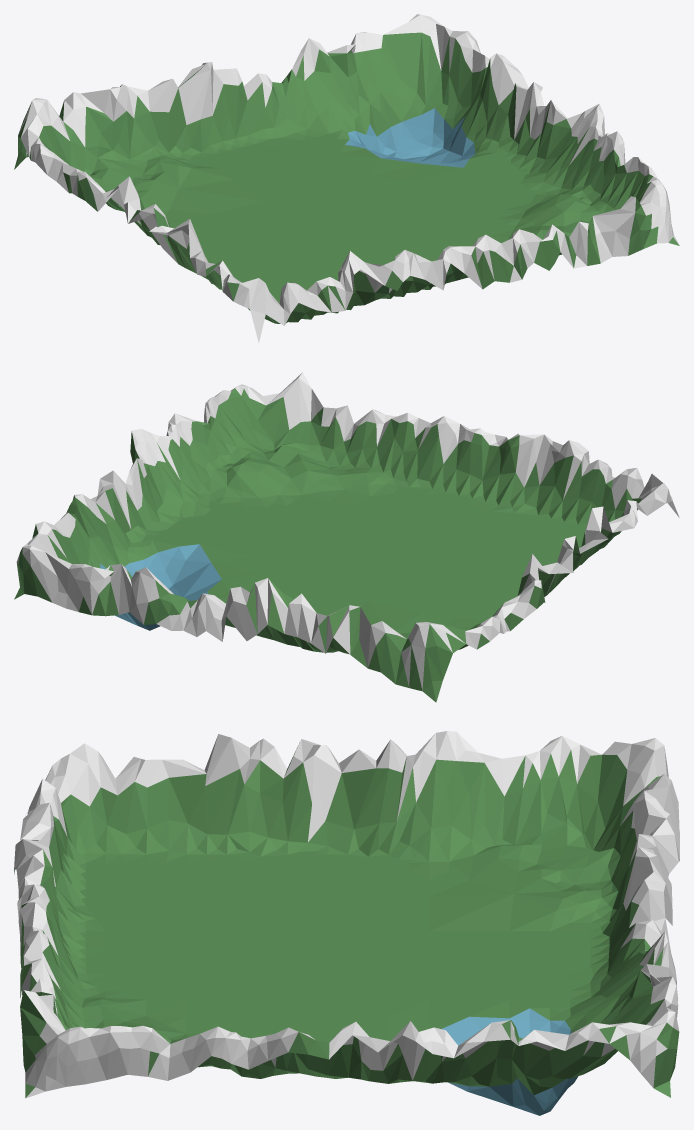
The model's file is dzikscene_mobile_test.fbx.
3 views of the same model, one above another, from view 1: azimuth 30°, elevation 25°; view 2: azimuth 150°, elevation 25°; view 3: azimuth 270°, elevation 25° (orthographic). The views are drawn at different scales.
Parts seen in each view (by area): view 1: Plane; view 2: Plane; view 3: Plane.
Boxes of the visible parts, x1=… form: Plane: x1=14, y1=14, x2=679, y2=342; Plane: x1=14, y1=372, x2=679, y2=702; Plane: x1=14, y1=731, x2=679, y2=1115.
Size of the model in its own units: 6639 by 1491 by 6188.
